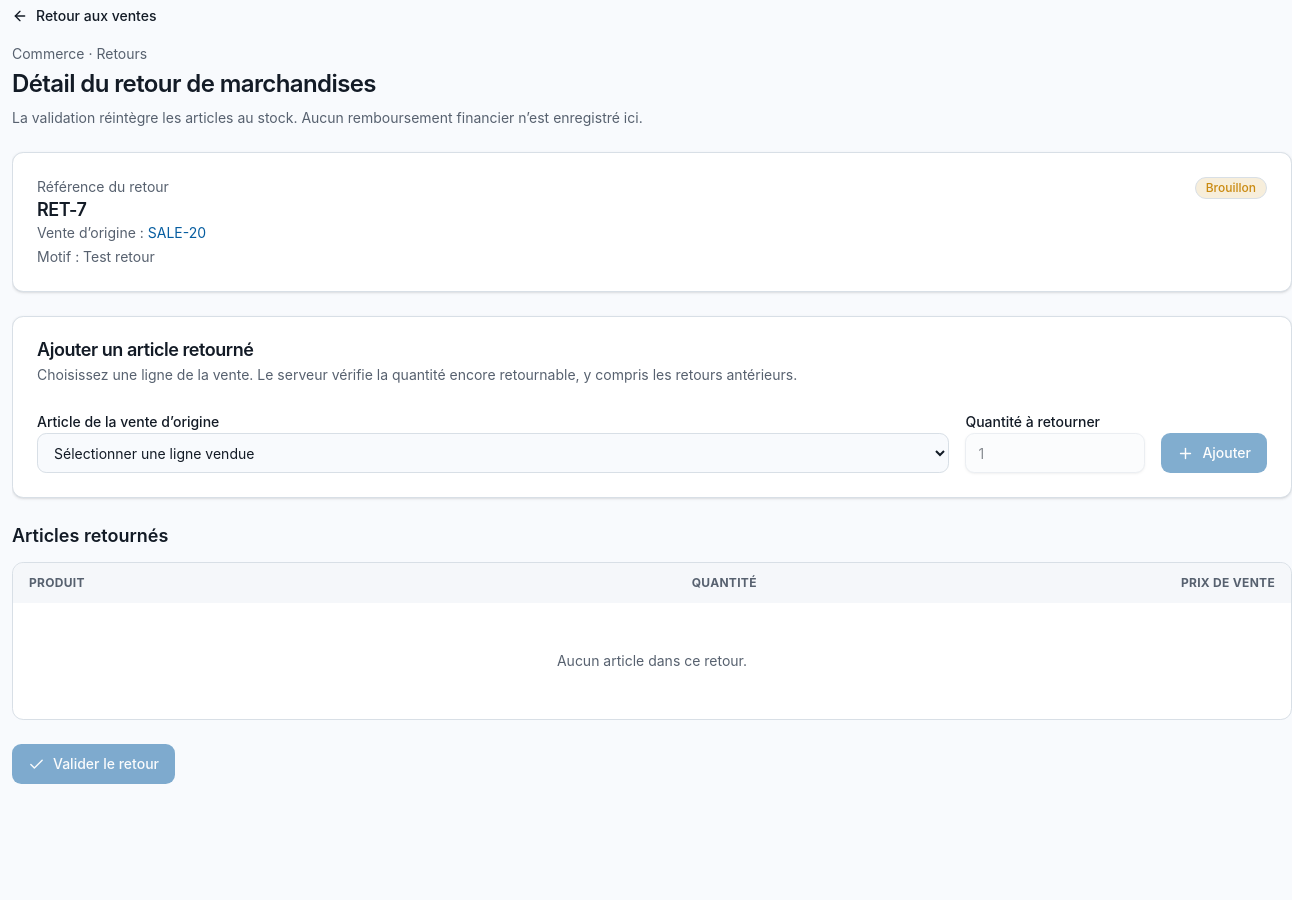
Scenario: parcours métier frontend › restitue le refus serveur lorsqu’une quantité dépasse le solde encore retournable
This screenshot has width=1292, height=900.
Select "Produit test · 2 u vendus" in the dropdown labelled "Article de la vente d’origine" at (493, 453), box [37,433,949,473]
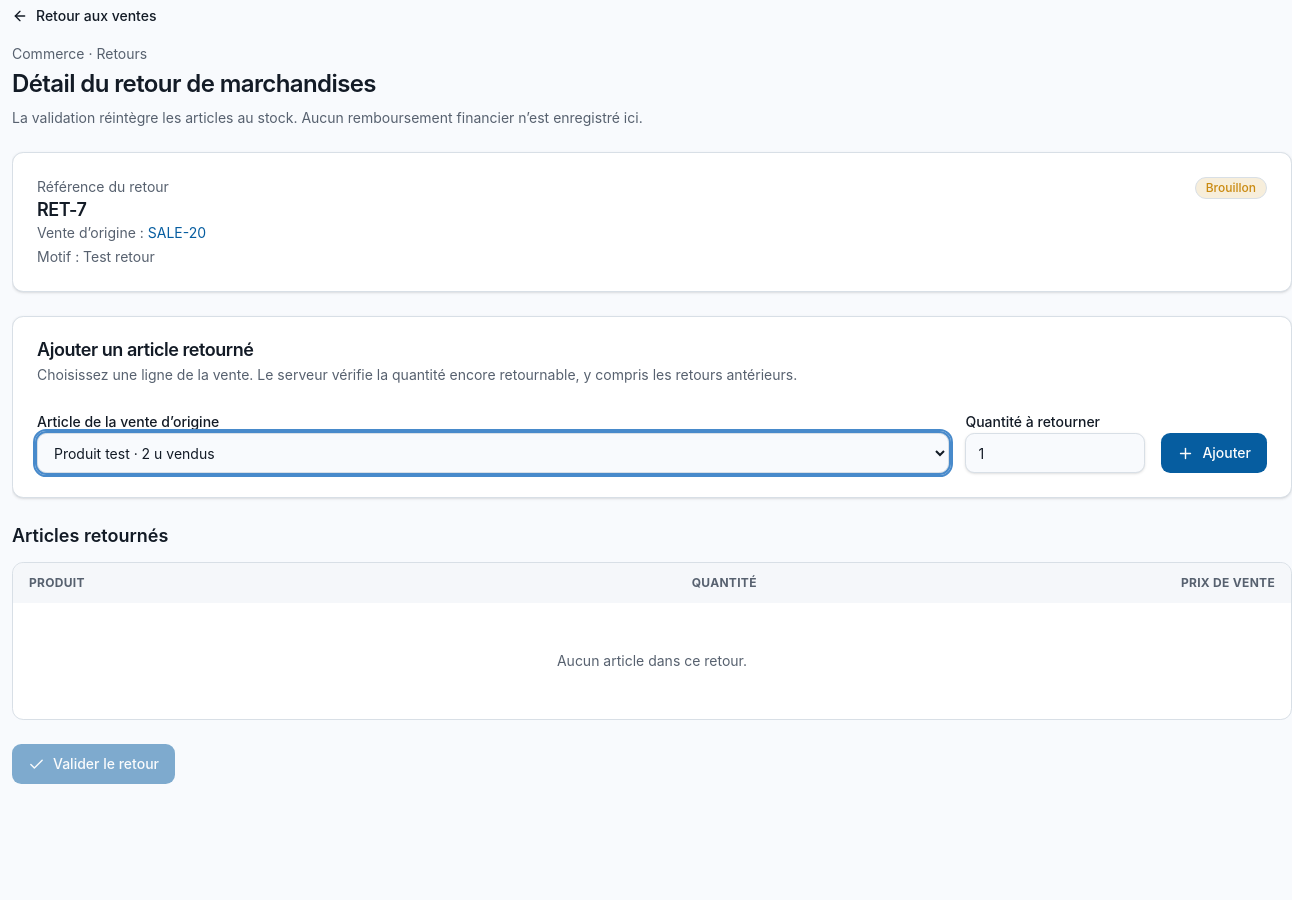
Replace the text in the number field labelled "Quantité à retourner" with "2" at (1055, 453), box [965,433,1145,473]
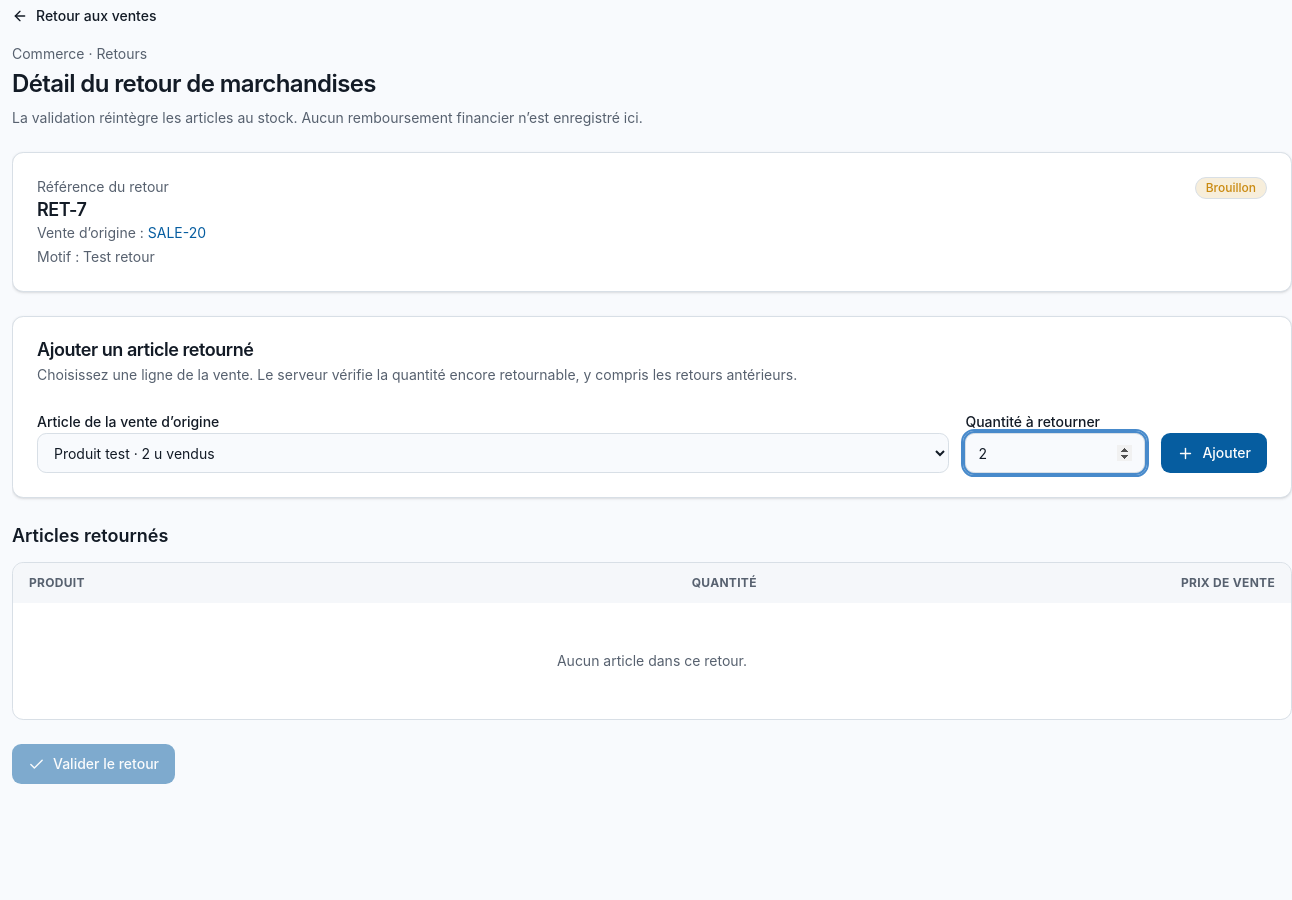
Click the button "Ajouter" at (1214, 453), box [1161,433,1267,473]
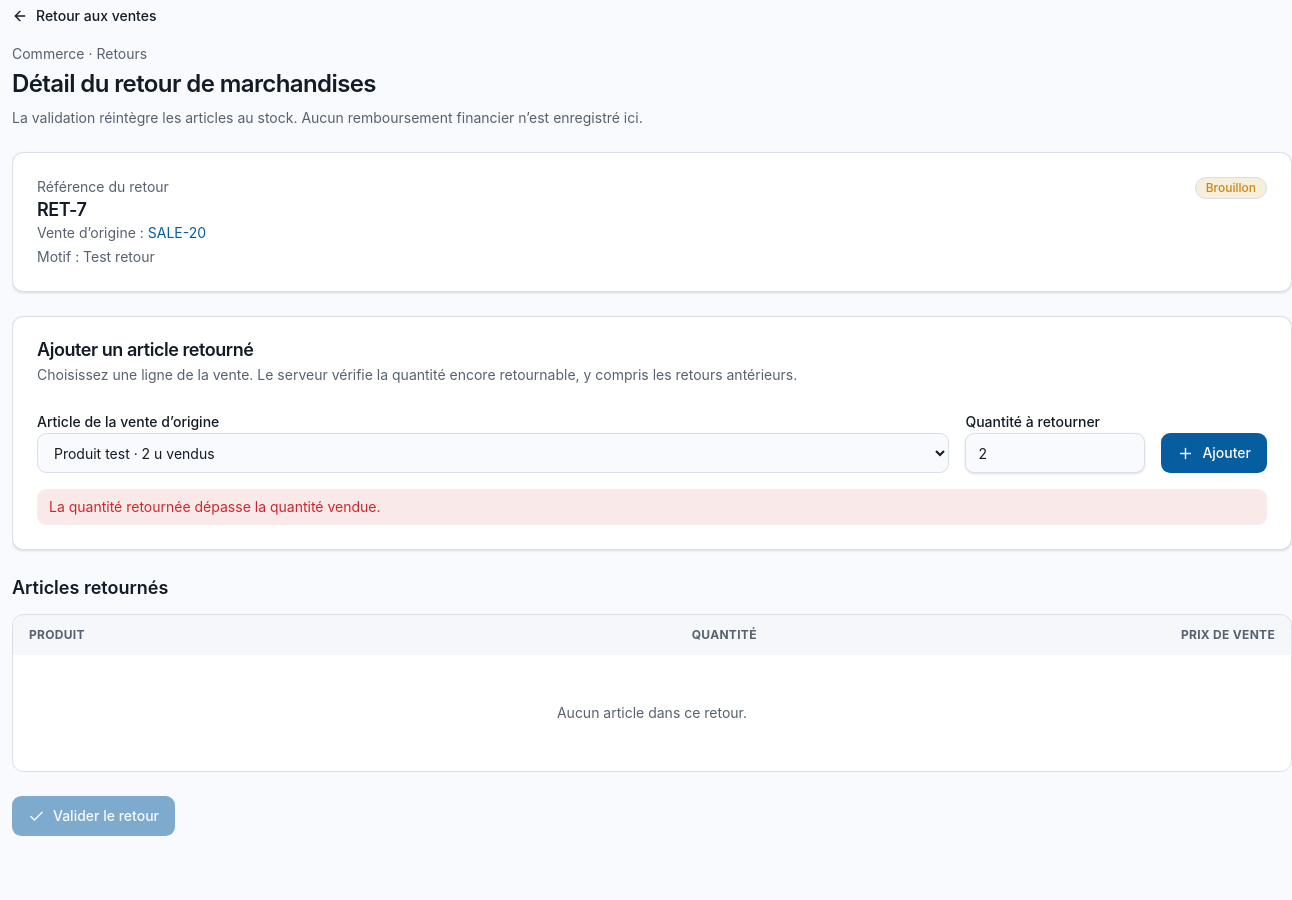
Expected: the button "Valider le retour" is disabled, [12,796,175,836]
Expected: the message reads "La quantité retournée dépasse la quantité vendue.", [49,498,380,515]
